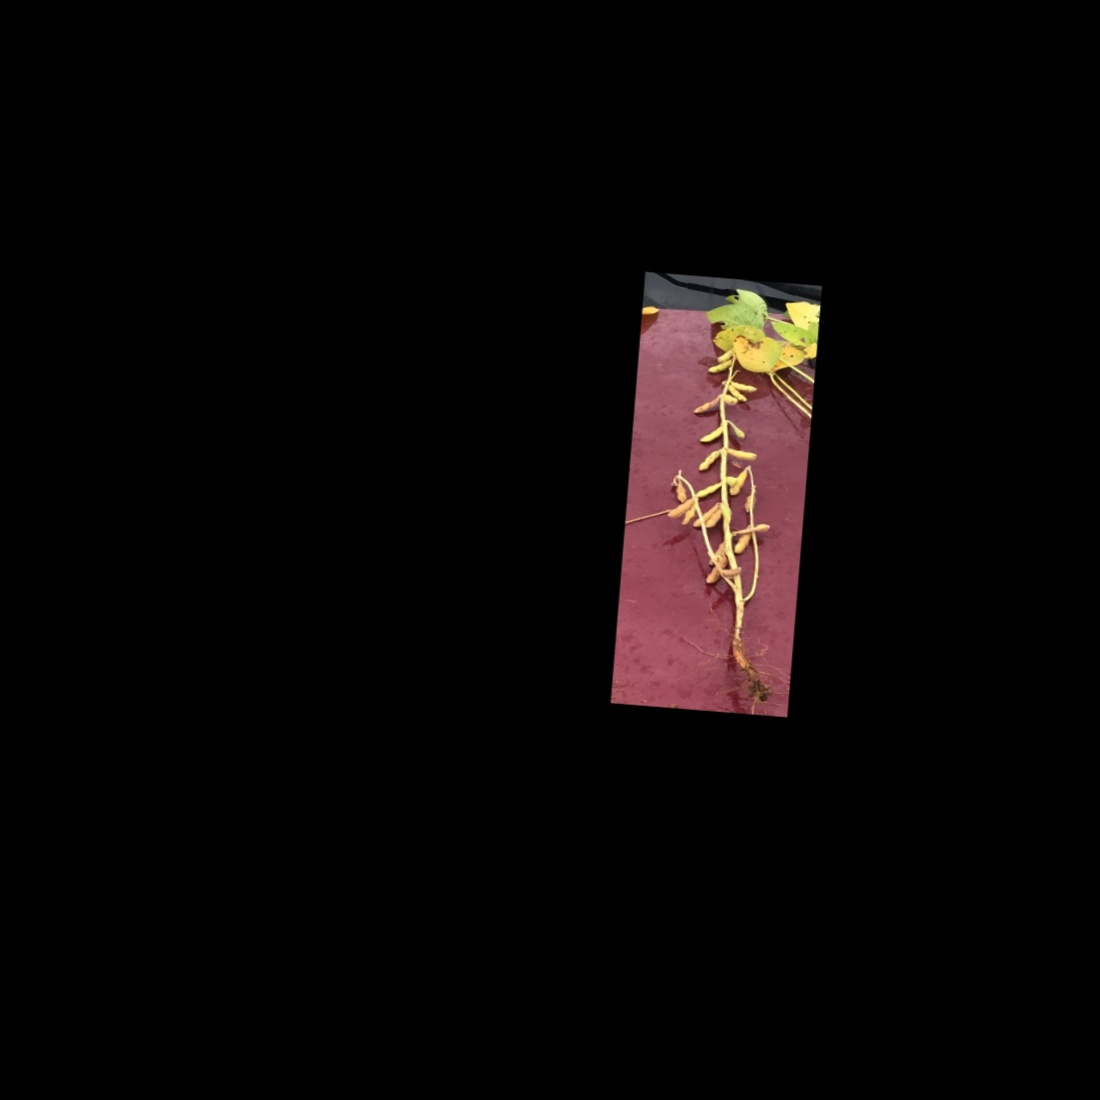pod: (693, 445, 723, 475), (696, 418, 725, 446), (665, 494, 695, 521), (704, 354, 736, 377), (726, 445, 767, 463), (689, 480, 723, 502), (721, 382, 752, 404), (702, 506, 723, 532), (727, 380, 757, 394)
soy: (620, 278, 811, 701)
